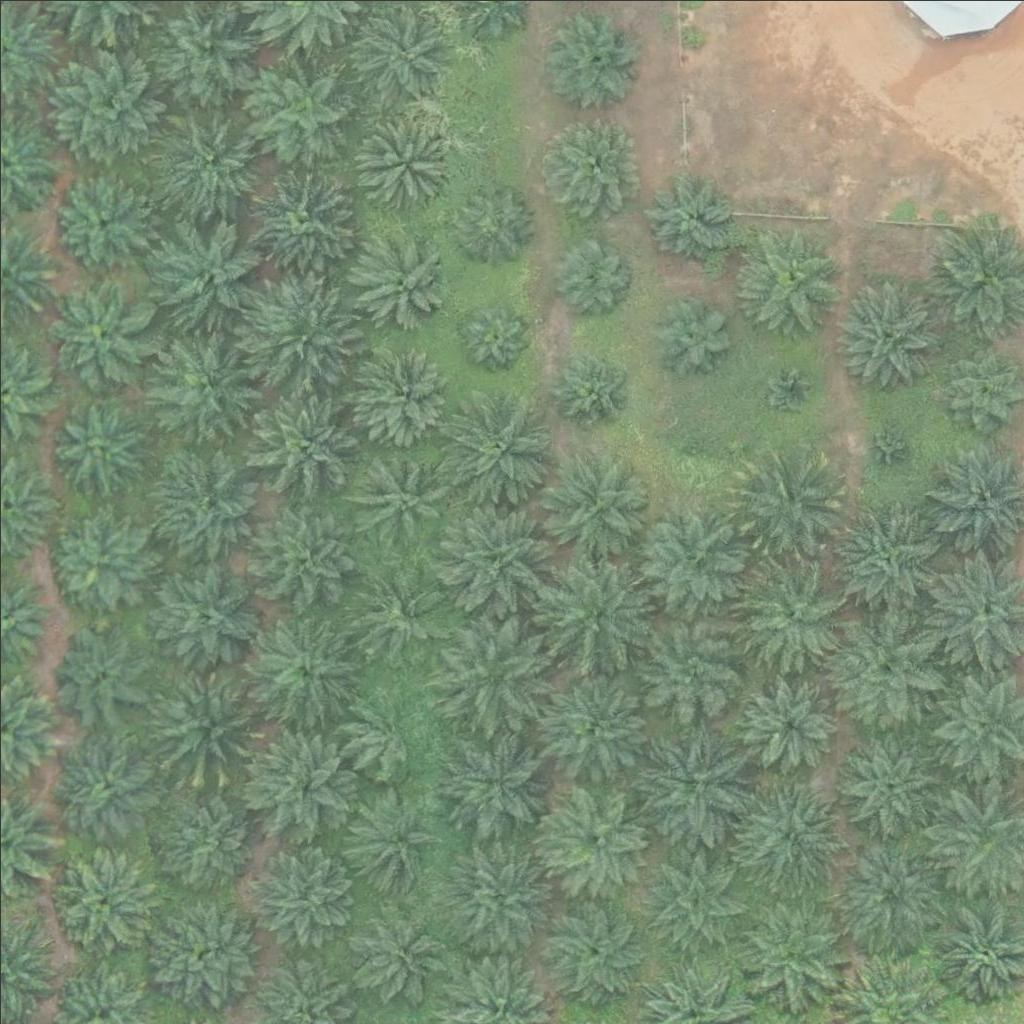Kelapa_Sawit: (733, 894, 846, 1008), (441, 399, 554, 513), (538, 668, 651, 782), (541, 558, 654, 672), (640, 839, 753, 953), (638, 729, 751, 843), (730, 774, 843, 888), (243, 840, 356, 953), (146, 560, 259, 673), (150, 450, 263, 563), (241, 726, 354, 839), (250, 613, 363, 726), (244, 496, 357, 609), (536, 449, 649, 562), (634, 609, 747, 722), (242, 278, 355, 391), (241, 161, 354, 274), (145, 330, 258, 443), (148, 216, 261, 329), (154, 105, 267, 218), (46, 50, 159, 163), (245, 384, 357, 498), (438, 618, 550, 732), (436, 501, 548, 615), (732, 223, 844, 337), (733, 448, 845, 561), (835, 837, 947, 950), (538, 897, 650, 1010), (439, 840, 551, 953), (140, 896, 252, 1009), (149, 780, 261, 893), (150, 665, 262, 778), (440, 725, 552, 838), (540, 782, 652, 895), (630, 502, 742, 615), (735, 558, 847, 671), (835, 612, 947, 725), (831, 505, 943, 618), (831, 274, 943, 387), (247, 52, 359, 165), (42, 276, 154, 389), (54, 849, 154, 950), (57, 737, 157, 838), (48, 621, 148, 722), (47, 511, 147, 612), (50, 397, 150, 498), (342, 791, 442, 892), (738, 673, 838, 774), (836, 732, 936, 833), (354, 340, 454, 441), (348, 228, 448, 329), (353, 110, 453, 211), (48, 171, 148, 272), (350, 565, 450, 665), (346, 446, 446, 546), (536, 116, 636, 216), (541, 9, 641, 109), (345, 687, 433, 775), (639, 176, 727, 264), (351, 911, 438, 999), (646, 291, 733, 379), (547, 341, 634, 429), (550, 232, 637, 320), (448, 177, 535, 265), (457, 298, 532, 373), (859, 420, 909, 471), (765, 364, 815, 415), (668, 428, 718, 478)
